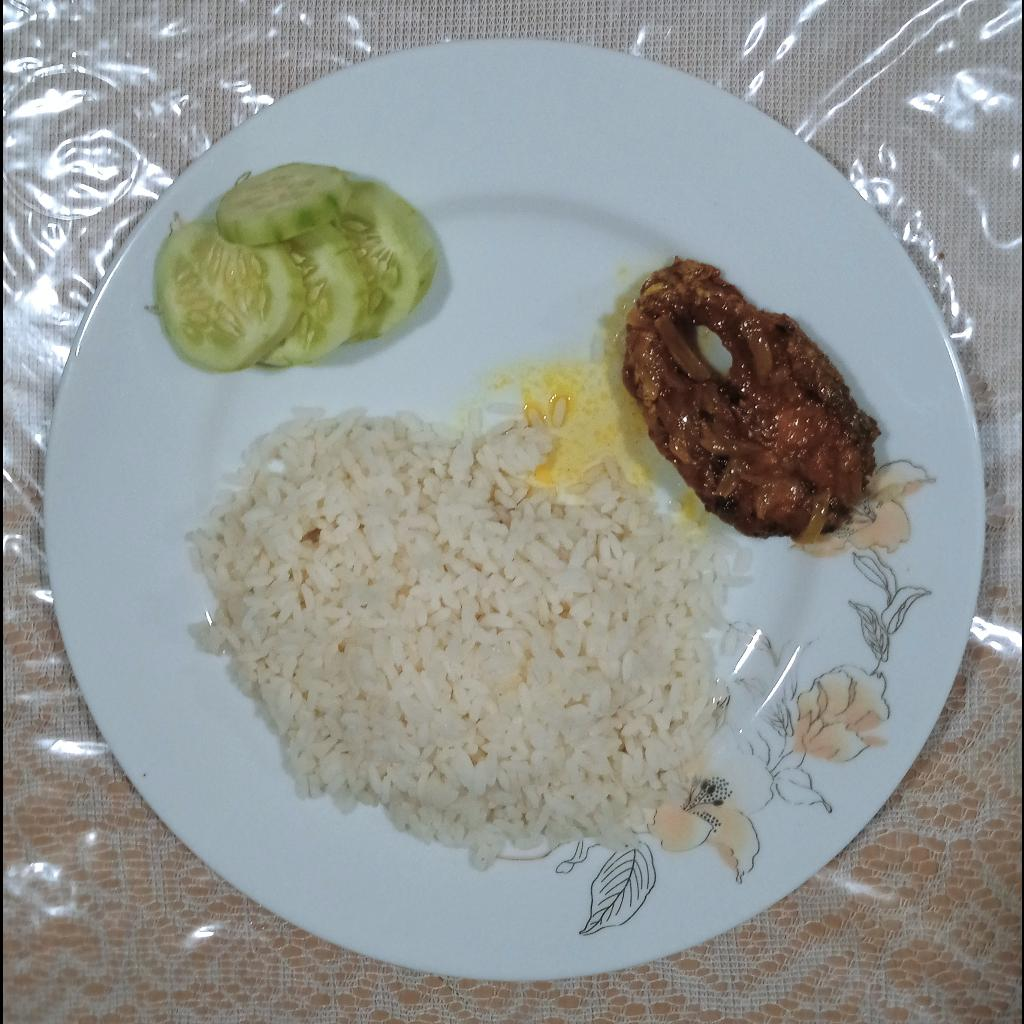cucumber: (156, 160, 434, 370)
fish: (621, 256, 883, 539)
rice: (180, 392, 755, 862)
